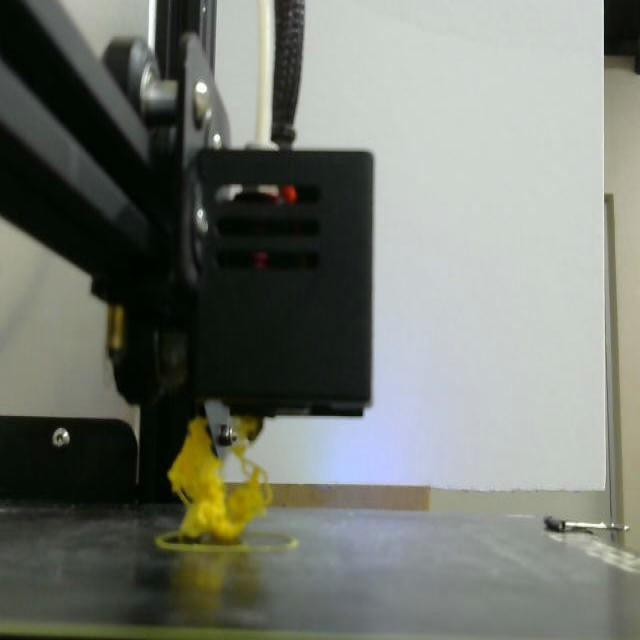spaghetti: (162, 411, 292, 552)
